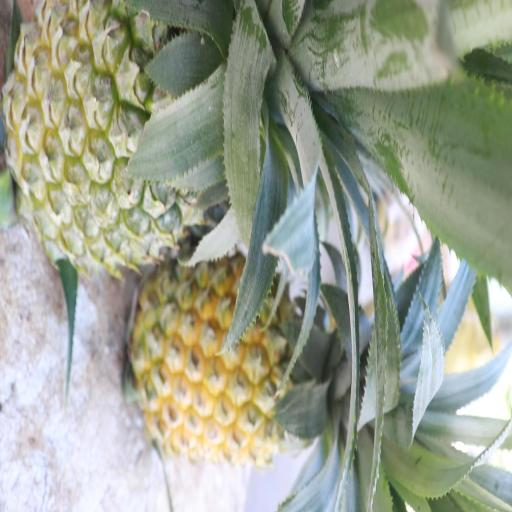------------------------------: (11, 0, 292, 263)
Pineapple - v8 v1: (133, 258, 365, 458)
